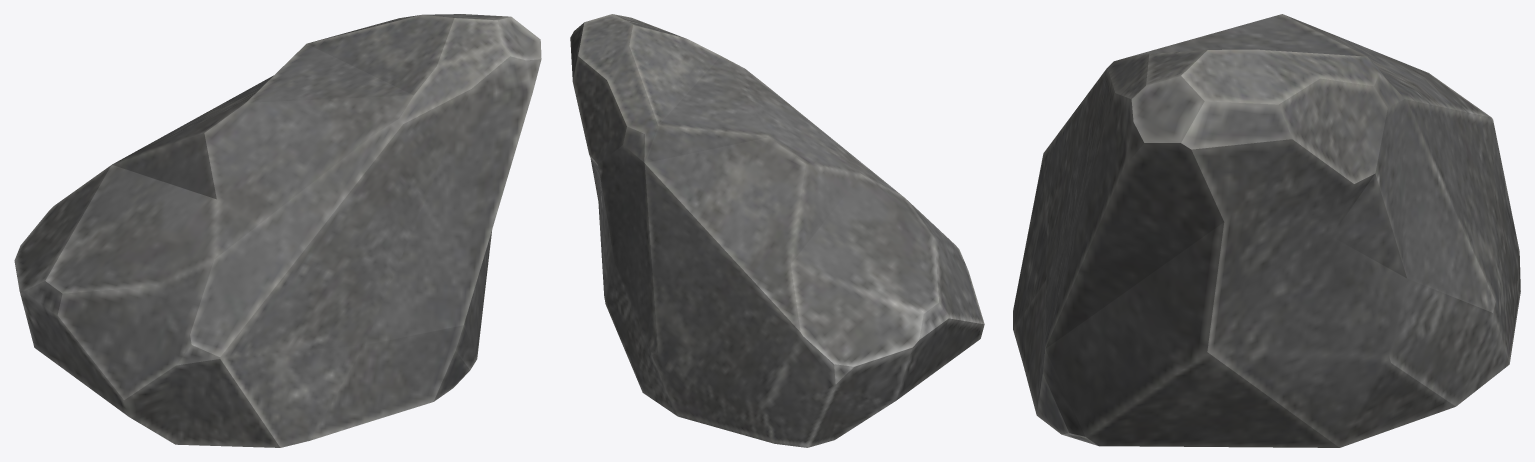
File: Rock05_Dream.glb
3 views of the same model, side by side, from view 1: azimuth 30°, elevation 25°; view 2: azimuth 150°, elevation 25°; view 3: azimuth 270°, elevation 25° (orthographic). The views are drawn at different scales.
Visible parts, largest first — view 1: rock05_dream; view 2: rock05_dream; view 3: rock05_dream.
Boxes of the visible parts, x1,y1,x2,y2 form: rock05_dream: [14, 14, 541, 447]; rock05_dream: [570, 14, 984, 447]; rock05_dream: [1013, 14, 1520, 447].
Bounding box in the file's own units: 0.6448 × 0.4354 × 0.471.
1 material, 1 textured.
